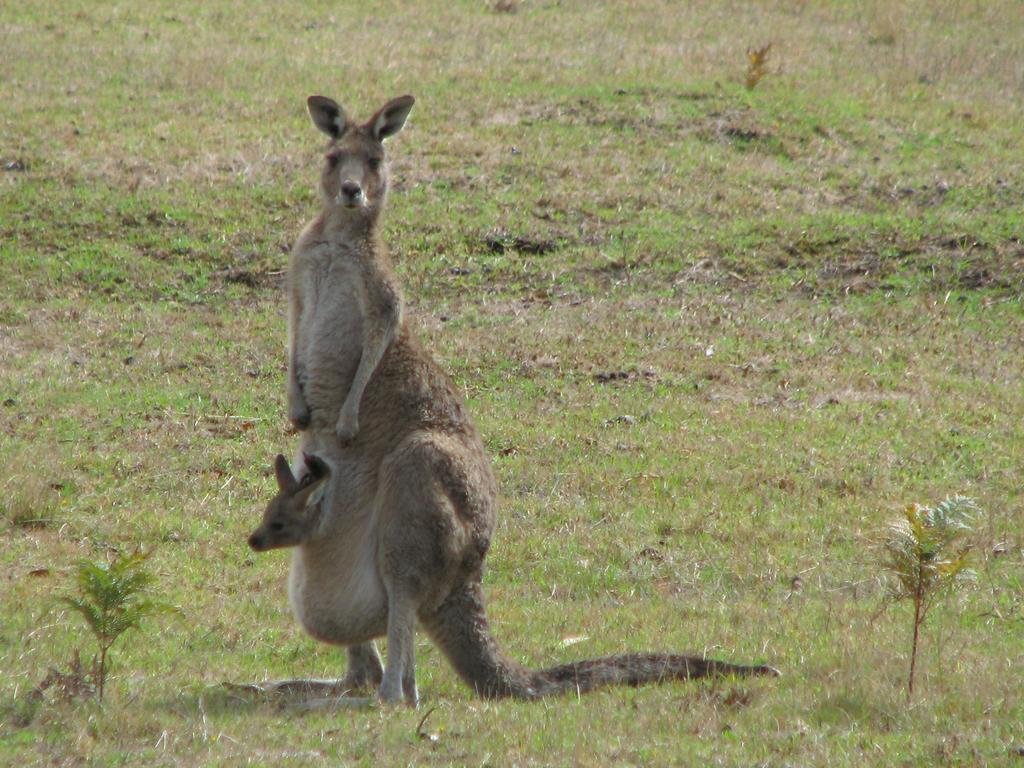kangaroo: (192, 91, 783, 714), (245, 457, 327, 549)
